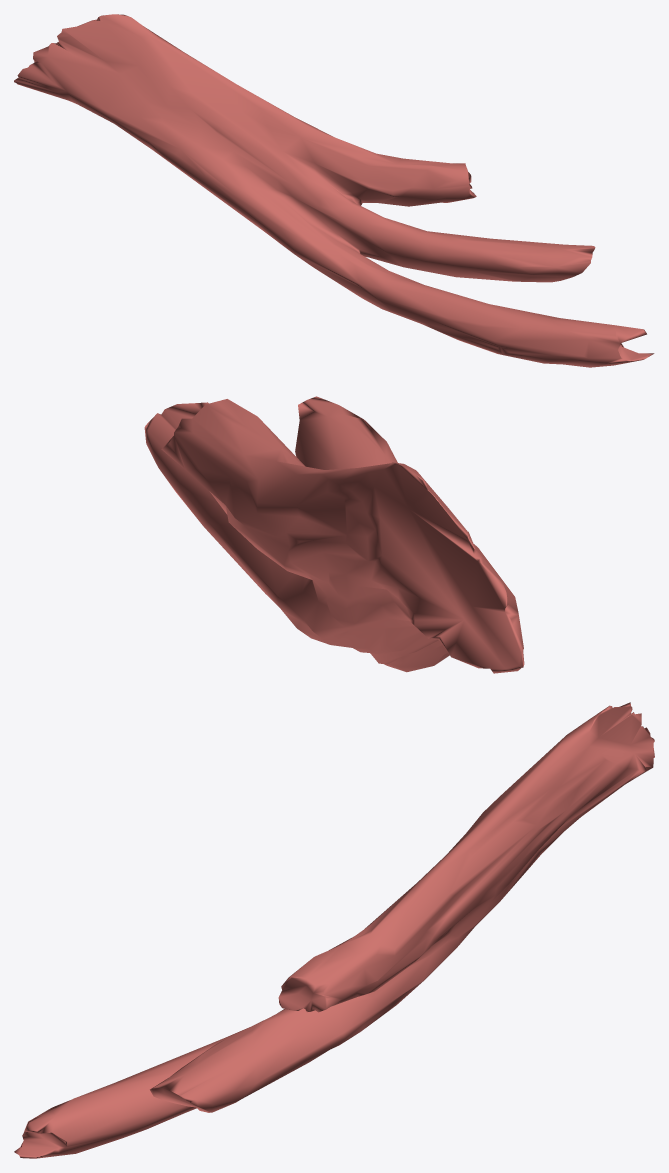
The picture shows the model from 3 angles, top to bottom: view 1: azimuth 30°, elevation 25°; view 2: azimuth 150°, elevation 25°; view 3: azimuth 270°, elevation 25°; orthographic projection. The views are drawn at different scales.
Visible parts, largest first — view 1: 右侧后斜角肌; view 2: 右侧后斜角肌; view 3: 右侧后斜角肌.
Part boxes in pixels (<box>): 右侧后斜角肌: <box>14,14,654,367</box>; 右侧后斜角肌: <box>144,396,524,673</box>; 右侧后斜角肌: <box>14,702,654,1158</box>.
Bounding box in the file's own units: 0.0651 × 0.0405 × 0.079.
